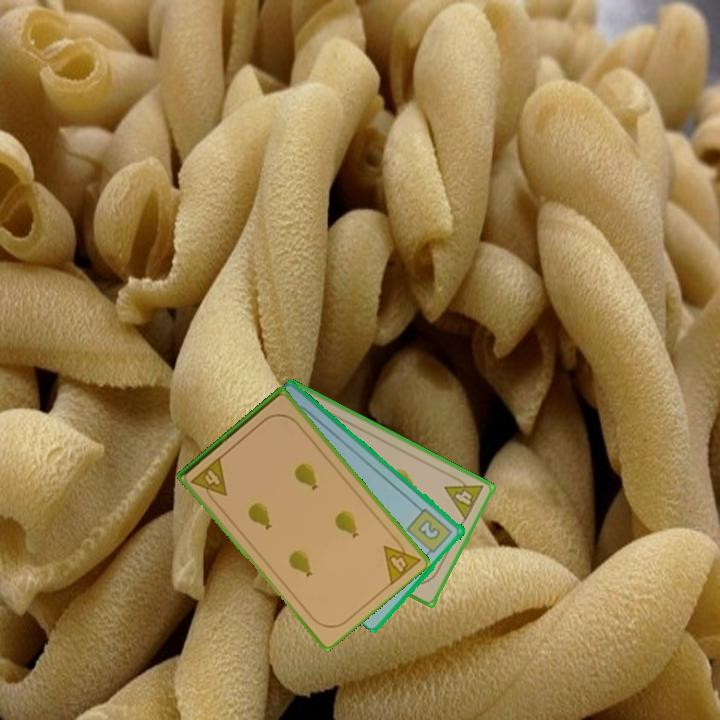2b: (404, 505, 455, 559)
4p: (380, 532, 423, 588), (441, 471, 487, 523), (188, 453, 231, 506)
